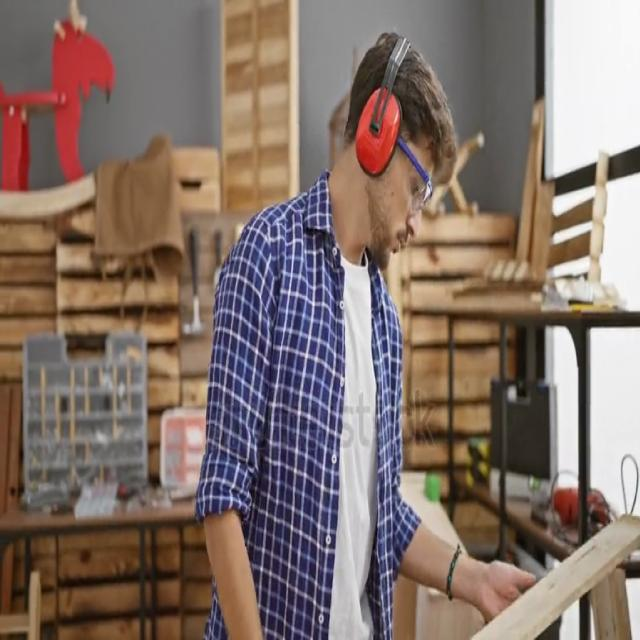goggles: (395, 128, 431, 224)
